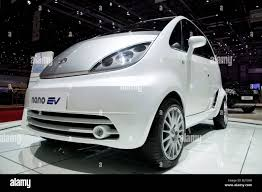Nano: (29, 17, 229, 171)
